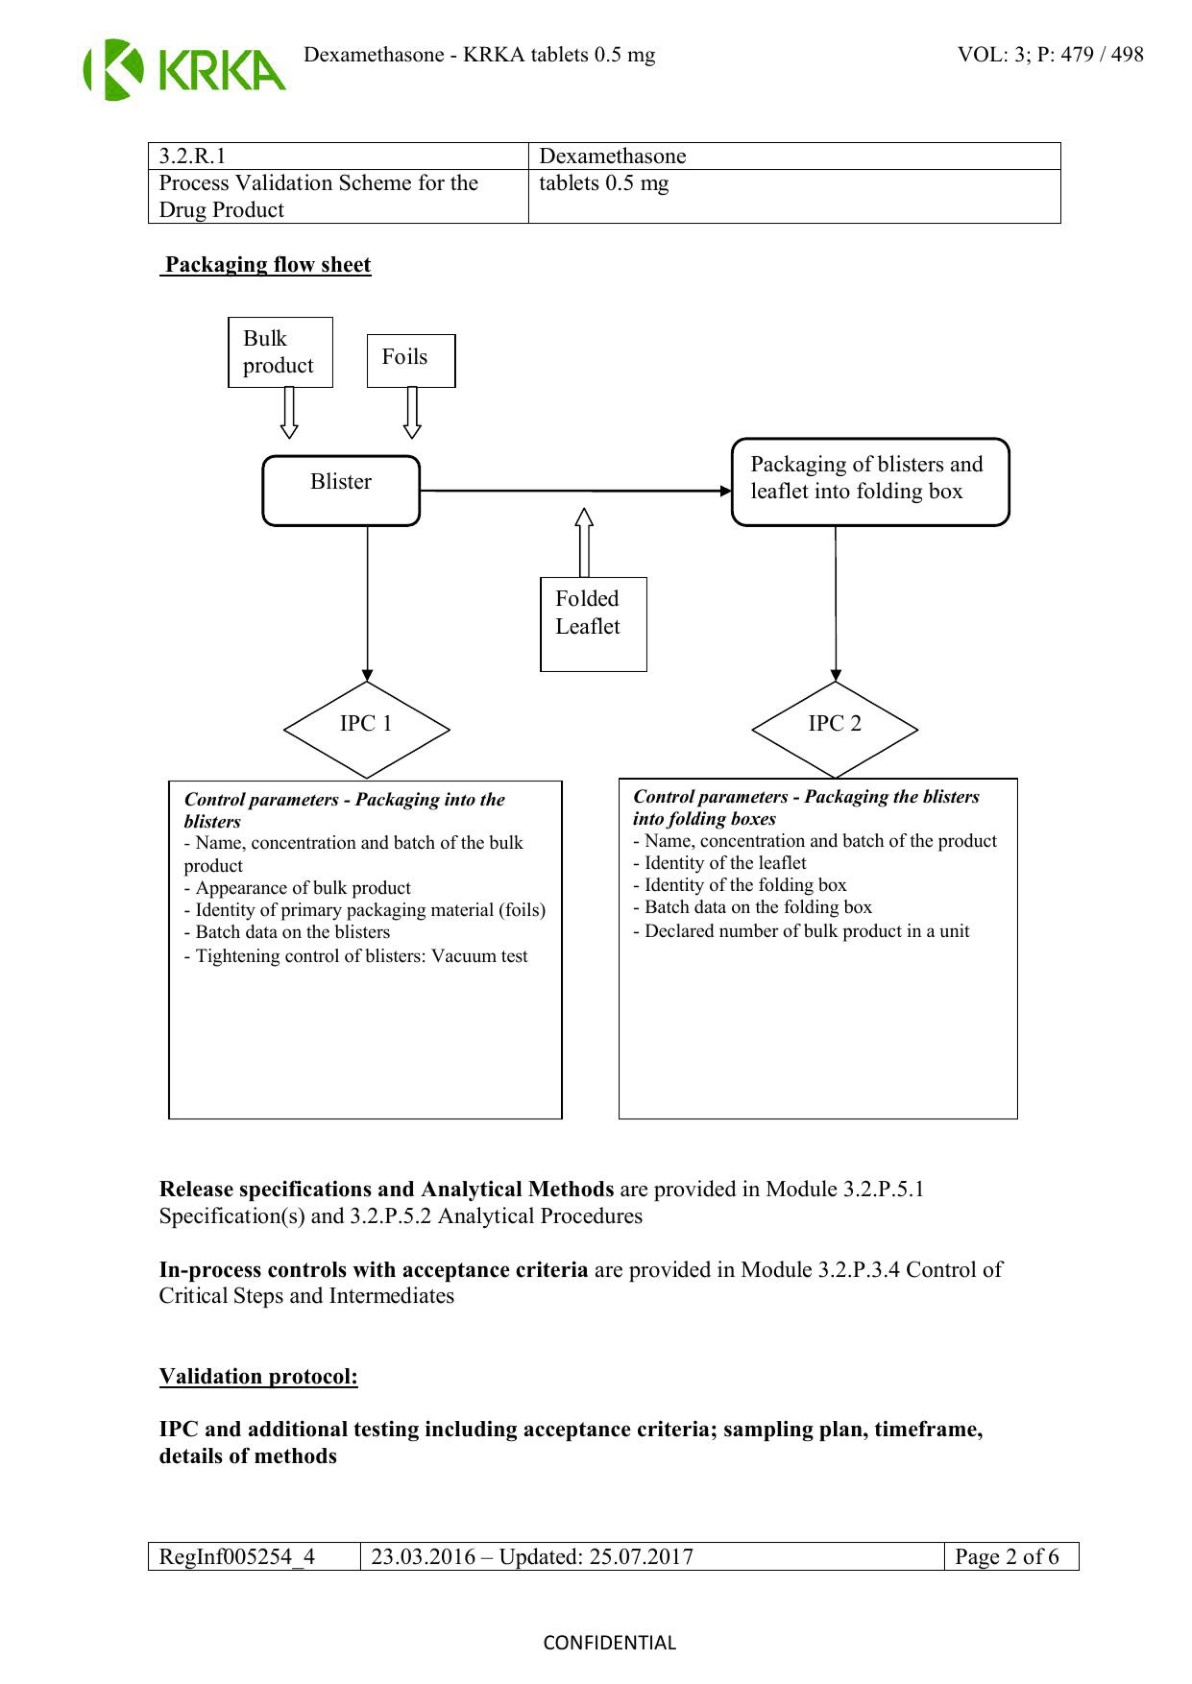full_lined: (146, 141, 1062, 224), (147, 1541, 1080, 1571)
